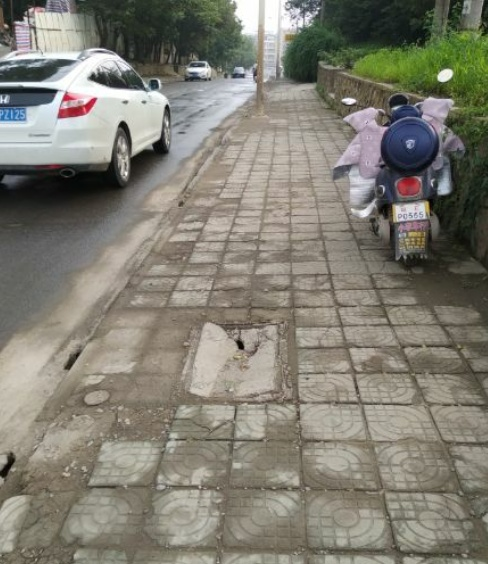broke: (181, 318, 294, 401)
